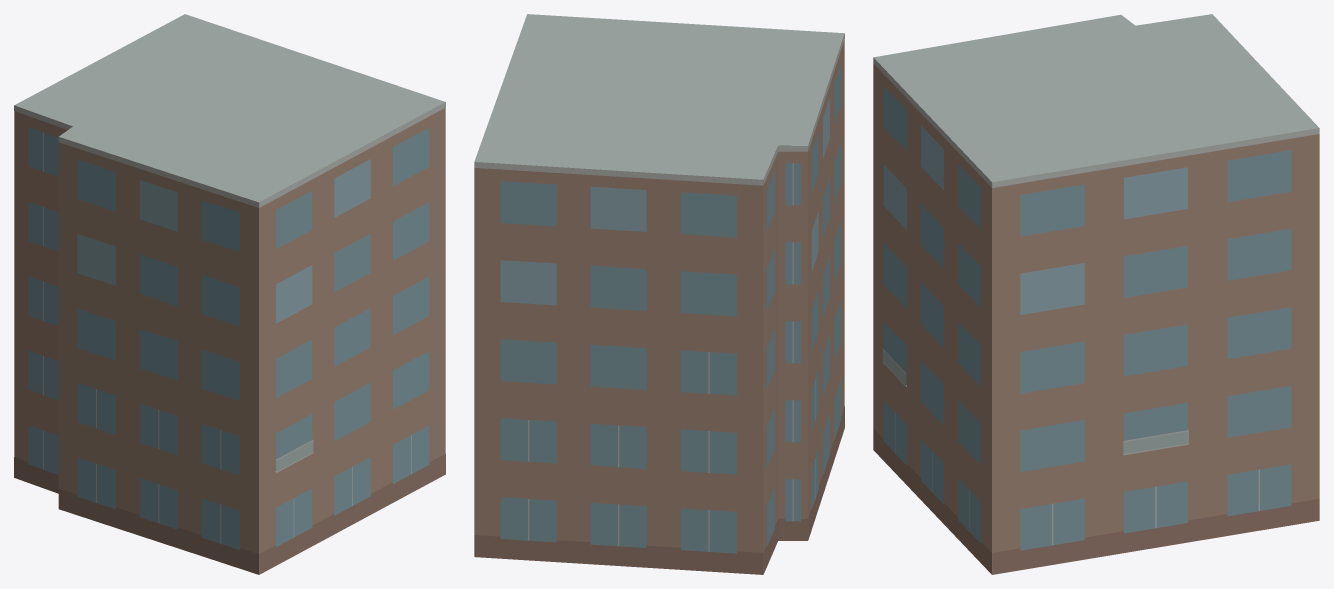
Rendered from survey-upis-33019929.glb.
3 views of the same model, side by side, from view 1: azimuth 30°, elevation 25°; view 2: azimuth 150°, elevation 25°; view 3: azimuth 270°, elevation 25° (orthographic). The views are drawn at different scales.
Visible parts, largest first — view 1: survey-upis-33019929.tmp; view 2: survey-upis-33019929.tmp; view 3: survey-upis-33019929.tmp.
Part boxes in pixels (bbox=[...]): survey-upis-33019929.tmp: bbox=[14, 14, 445, 574]; survey-upis-33019929.tmp: bbox=[474, 14, 844, 574]; survey-upis-33019929.tmp: bbox=[873, 14, 1319, 574].
Bounding box in the file's own units: 15.09 × 16.4 × 16.9.
